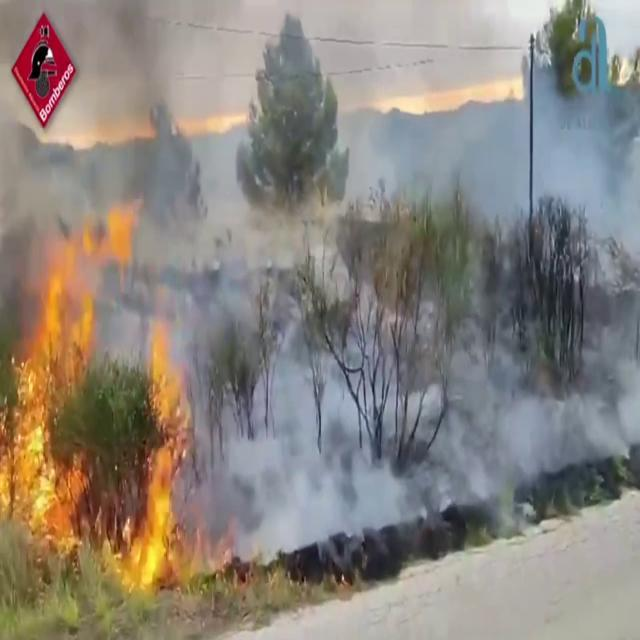Fire: (0, 197, 119, 584), (112, 302, 212, 591)
Smoke: (214, 267, 636, 568), (2, 0, 231, 377), (360, 0, 639, 300)
